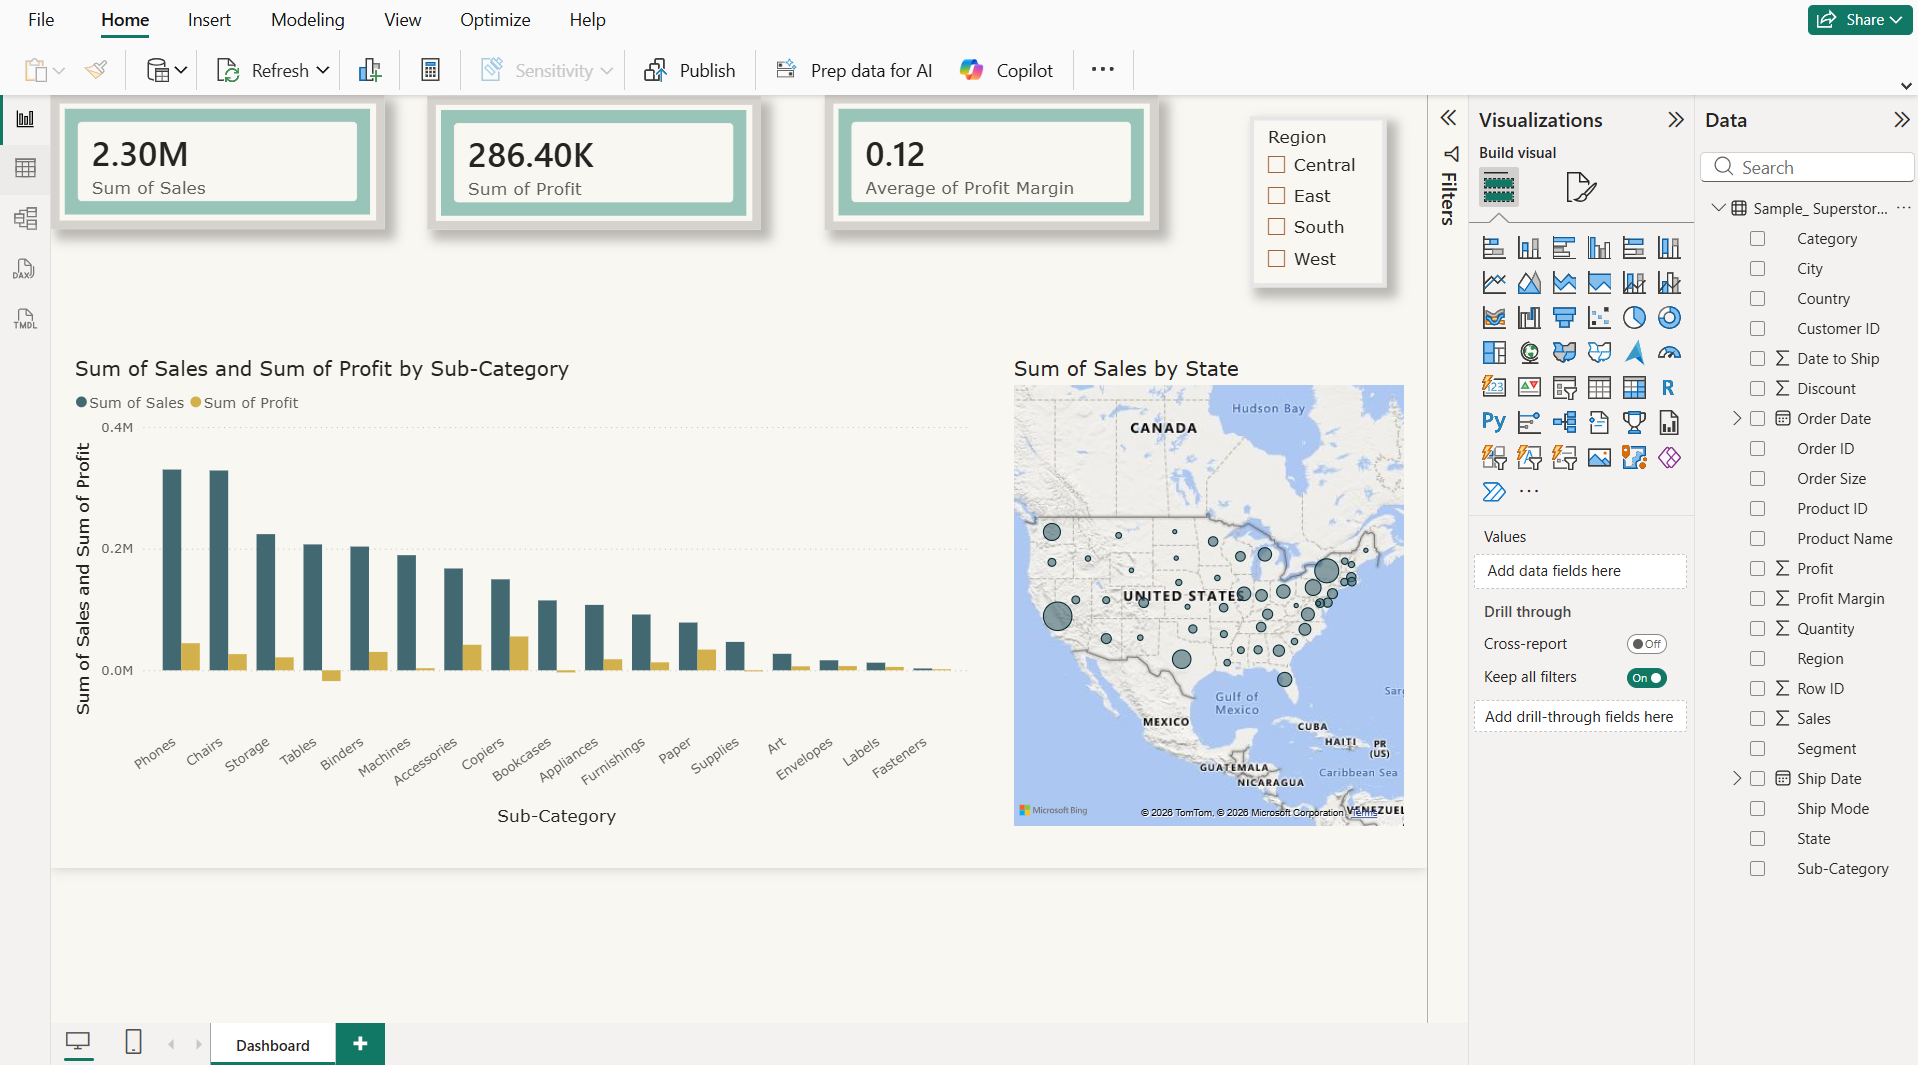

Layout of this report page (visuals, bound fields, positions):
{"tool":"powerbi","page":{"name":"Dashboard","canvas":[1280,720],"ordinal":0},"visuals":[{"type":"cardVisual","fields":{"Data":["Sum(Sample_ Superstore - Copy.Sales)"]},"box":[0,0,310.1,124.9],"z":0},{"type":"cardVisual","fields":{"Data":["Sum(Sample_ Superstore - Copy.Profit)"]},"box":[350.1,1,310,124.2],"z":1000},{"type":"cardVisual","fields":{"Data":["Avg(Sample_ Superstore - Copy.Profit Margin)"]},"box":[719.7,0,310,125.2],"z":2000},{"type":"slicer","fields":{"Values":["Sample_ Superstore - Copy.Region"]},"box":[1114.9,19.5,127.3,159.1],"z":3000},{"type":"clusteredColumnChart","fields":{"Category":["Sample_ Superstore - Copy.Sub-Category"],"Y":["Sum(Sample_ Superstore - Copy.Sales)","Sum(Sample_ Superstore - Copy.Profit)"]},"box":[17.8,242.9,842.5,441.9],"z":4000},{"type":"map","fields":{"Category":["Sample_ Superstore - Copy.State"],"Size":["Sum(Sample_ Superstore - Copy.Sales)"]},"box":[890.6,242.9,373.2,441.9],"z":5000}]}

Visuals, with their boxes on the page's 1280x720 design canvas (x1, y1, x2, y2). These are canvas units, not pixel positions in the 1918x1065 screenshot, which may show the page scaled, cropped or inside an application window:
cardVisual - Sum(Sample_ Superstore - Copy.Sales): bbox=(0, 0, 310, 125)
cardVisual - Sum(Sample_ Superstore - Copy.Profit): bbox=(350, 1, 660, 125)
cardVisual - Avg(Sample_ Superstore - Copy.Profit Margin): bbox=(720, 0, 1030, 125)
slicer - Sample_ Superstore - Copy.Region: bbox=(1115, 20, 1242, 179)
clusteredColumnChart - Sample_ Superstore - Copy.Sub-Category x Sum(Sample_ Superstore - Copy.Sales): bbox=(18, 243, 860, 685)
map - Sample_ Superstore - Copy.State x Sum(Sample_ Superstore - Copy.Sales): bbox=(891, 243, 1264, 685)
